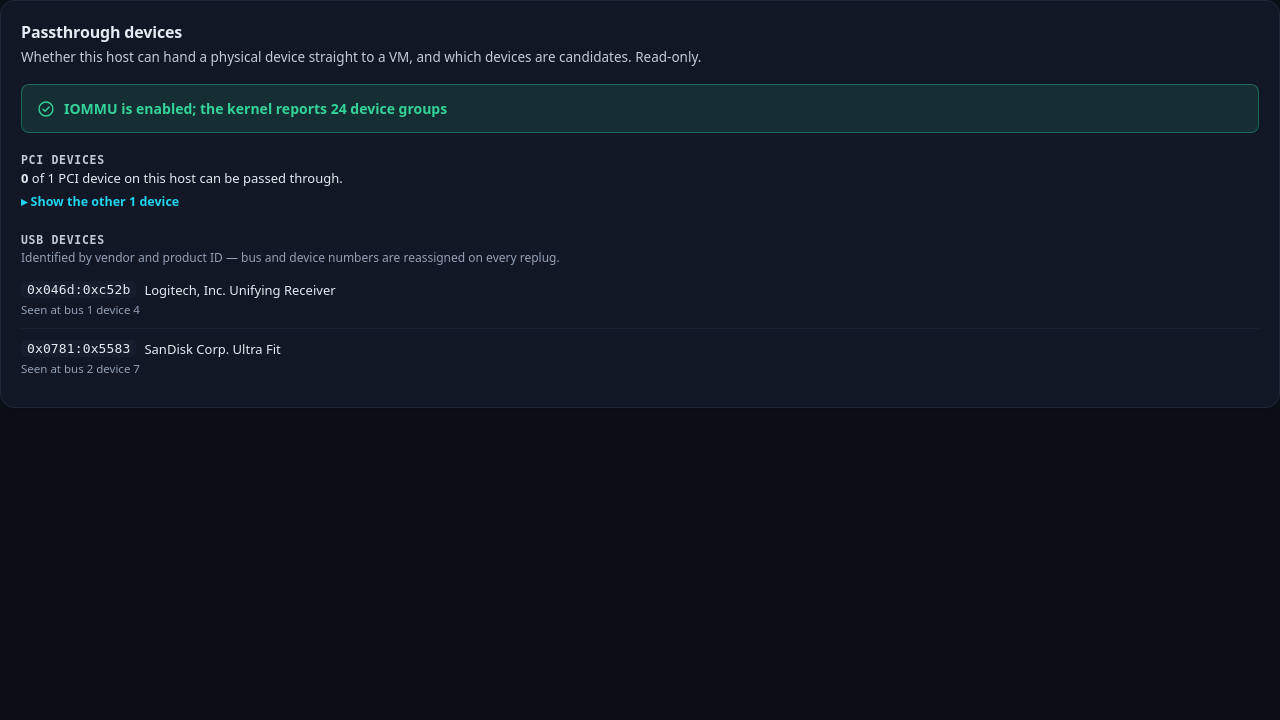
Scenario: HostDevices › shows the reason next to unusable device 0000:00:1c.0
Expected: the heading "Passthrough devices" is shown, [21,21,182,43]
Expected: the text "IOMMU is enabled; the kernel reports 24 device groups" is shown, [64,99,447,118]
Click the button "▸ Show the other 1 device" at (100, 201), box [21,193,179,210]
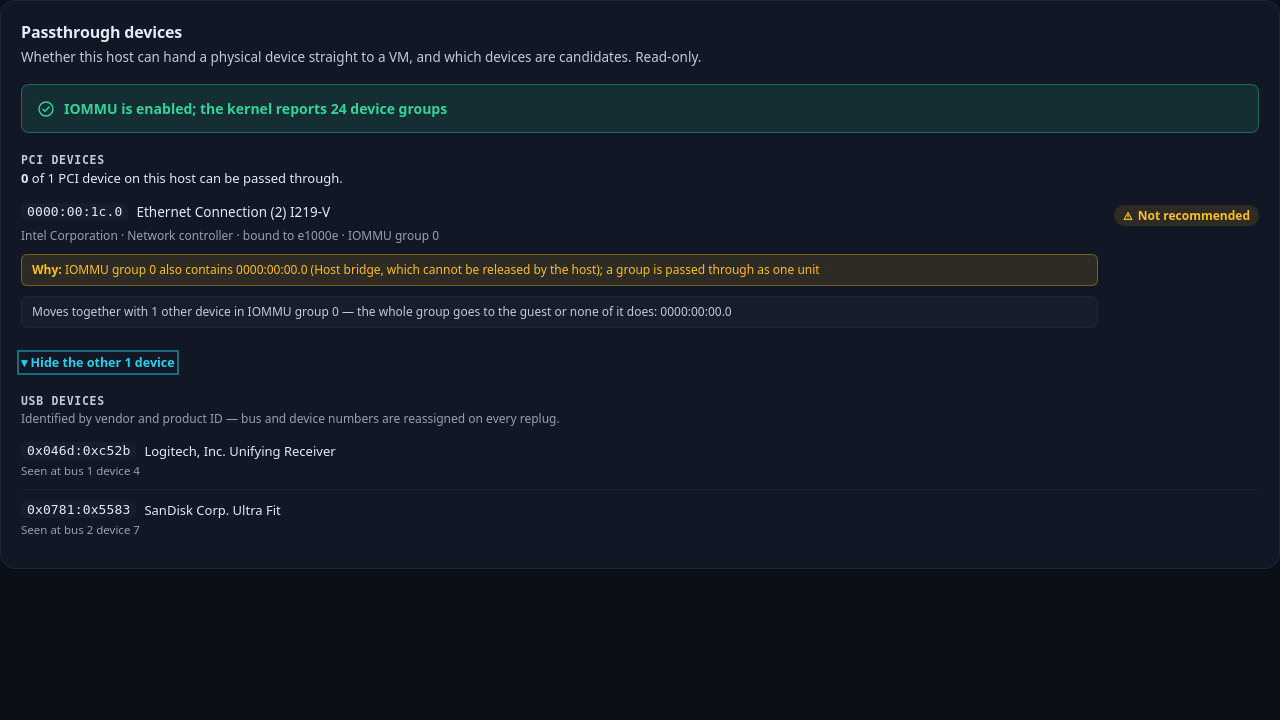
Result: the text "IOMMU group 0 also contains 0000:00:00.0 (Host bridge, which cannot be released by the host); a group is passed through " is shown at [65,261,820,278]
Result: the text "Not recommended" is shown at [1114,205,1259,226]
